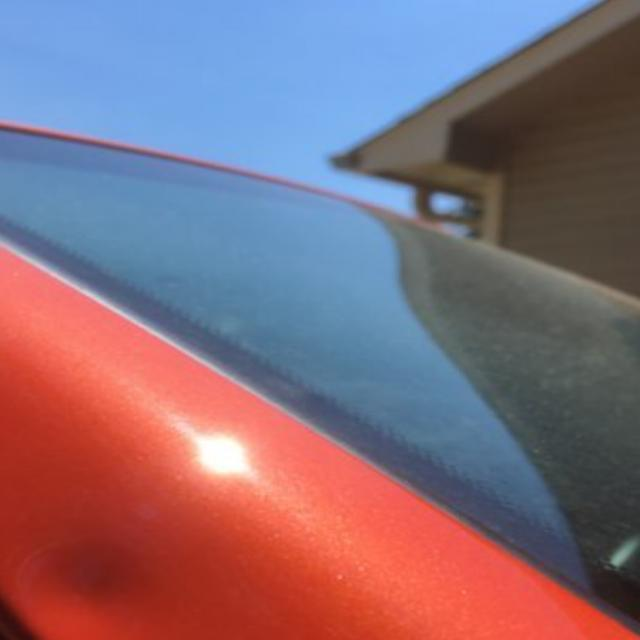dents: (18, 501, 173, 640)
